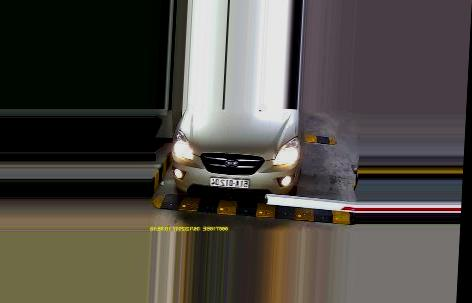License_Plate: (204, 175, 253, 192)
